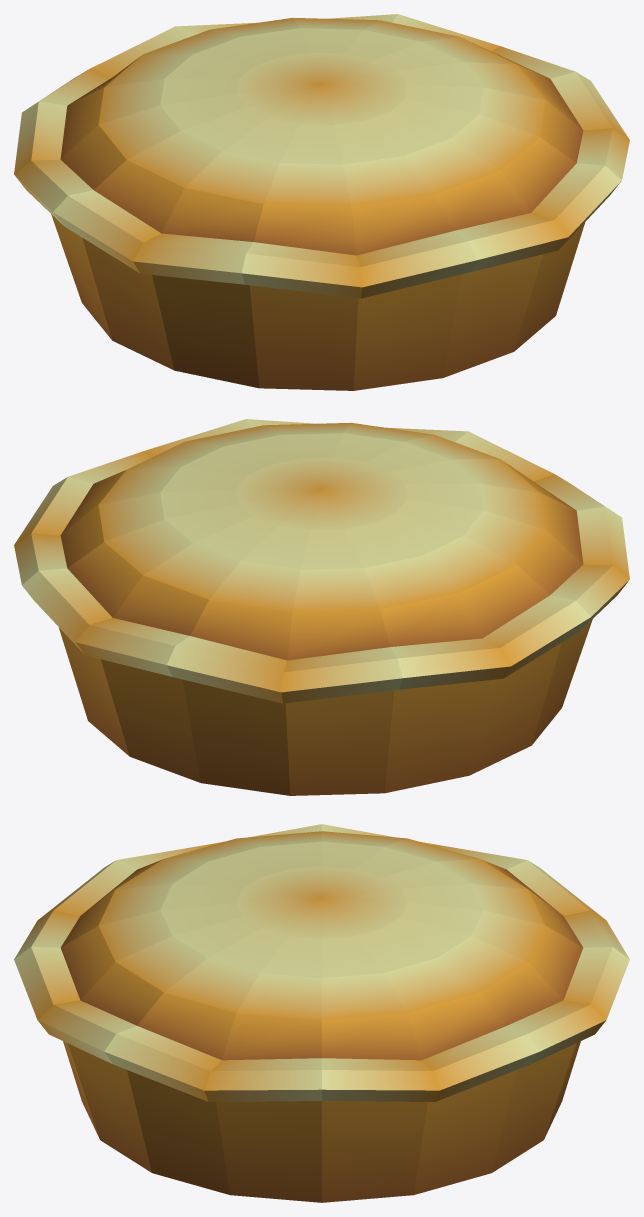
Rendered from Torta.fbx.
3 views of the same model, one above another, from view 1: azimuth 30°, elevation 25°; view 2: azimuth 150°, elevation 25°; view 3: azimuth 270°, elevation 25° (orthographic).
Visible parts, largest first — view 1: Torta_Fechada; view 2: Torta_Fechada; view 3: Torta_Fechada.
Part boxes in pixels (<box>): Torta_Fechada: <box>14,14,629,390</box>; Torta_Fechada: <box>14,419,629,795</box>; Torta_Fechada: <box>14,824,629,1202</box>.
Bounding box in the file's own units: 40.94 × 14.85 × 40.94.
